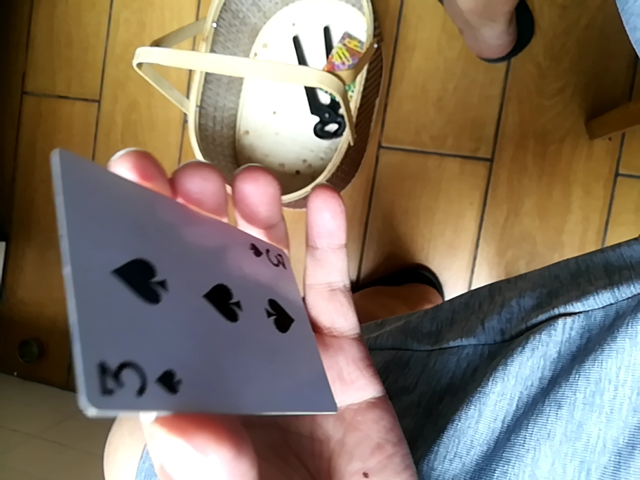ht 3: (69, 147, 357, 419)
